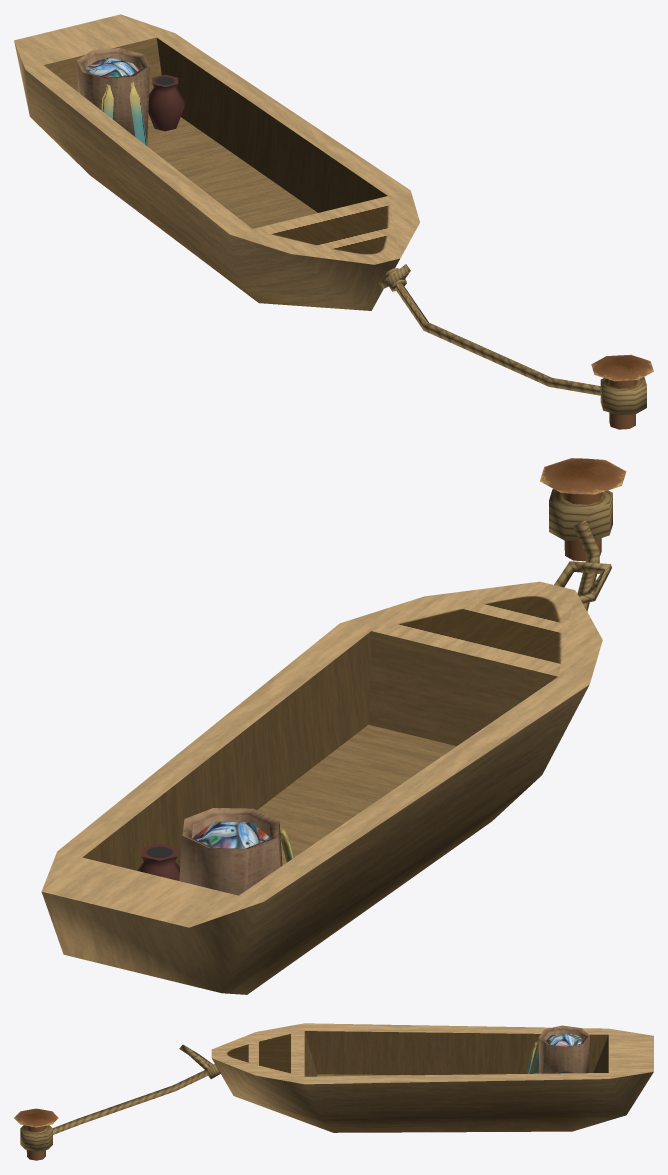
Rendered from allboat.fbx.
3 renders of one model, top to bottom at view 1: azimuth 30°, elevation 25°; view 2: azimuth 150°, elevation 25°; view 3: azimuth 270°, elevation 25°, orthographic. The views are drawn at different scales.
Visible parts, largest first — view 1: allboat; view 2: allboat; view 3: allboat.
Boxes of the visible parts, x1,y1,x2,y2 form: allboat: [14, 14, 653, 429]; allboat: [41, 458, 626, 994]; allboat: [14, 1023, 653, 1160].
Bounding box in the file's own units: 79.31 × 38.21 × 280.
Materials: 1 (1 with a texture image).
